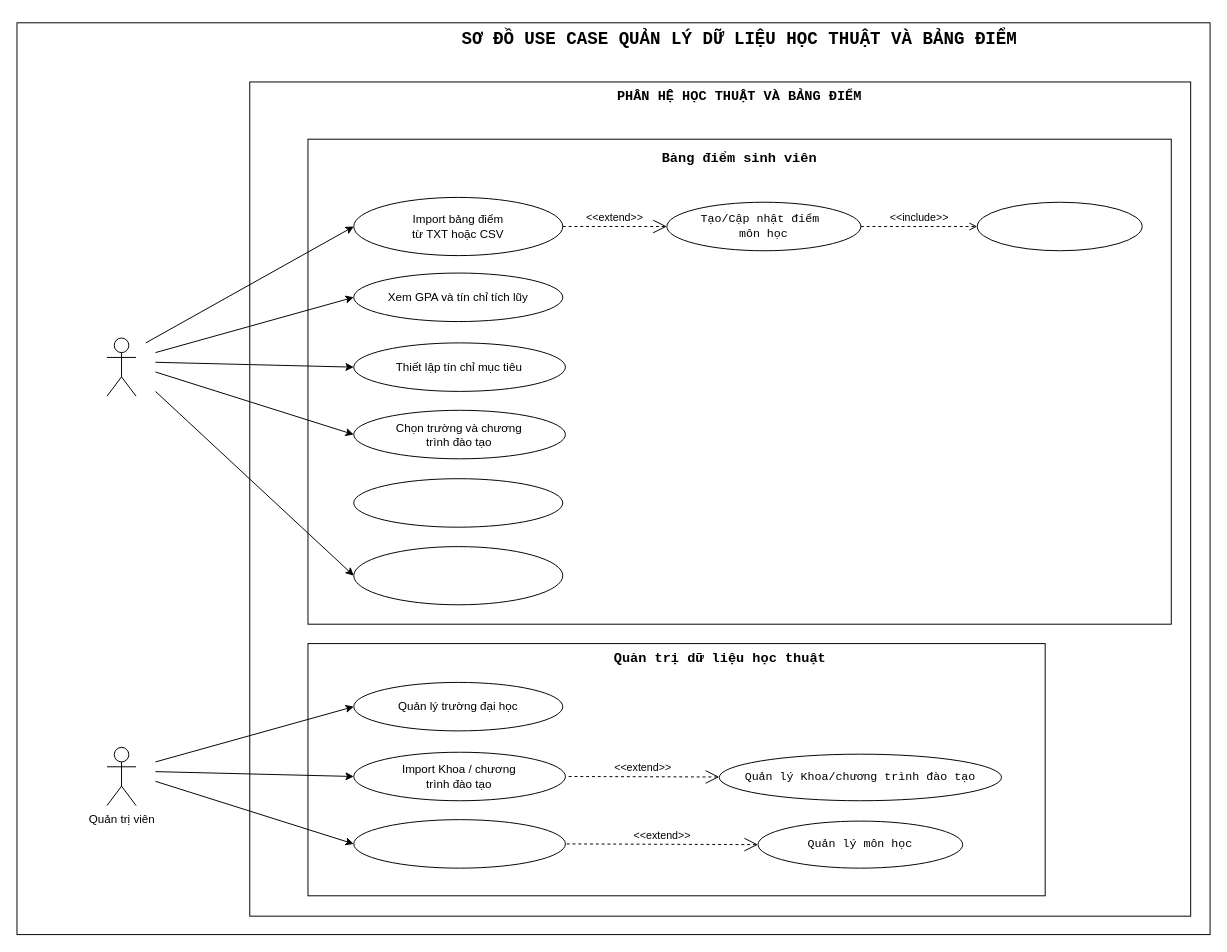
Image size: 1227x952. Some labels were removed from this diagram. The shapes that lost their labels are listed below. From the top down, each one's box as (x1, y1, x2, y2) in pixels, then its label:
(976, 201, 1142, 251): Xem danh mục môn học
(106, 337, 136, 396): Sinh viên
(353, 478, 563, 527): Nhận gợi ý học bổng phù hợp từ AI
(353, 546, 563, 605): Xóa điểm môn học
(353, 819, 565, 868): Import danh sách môn học
